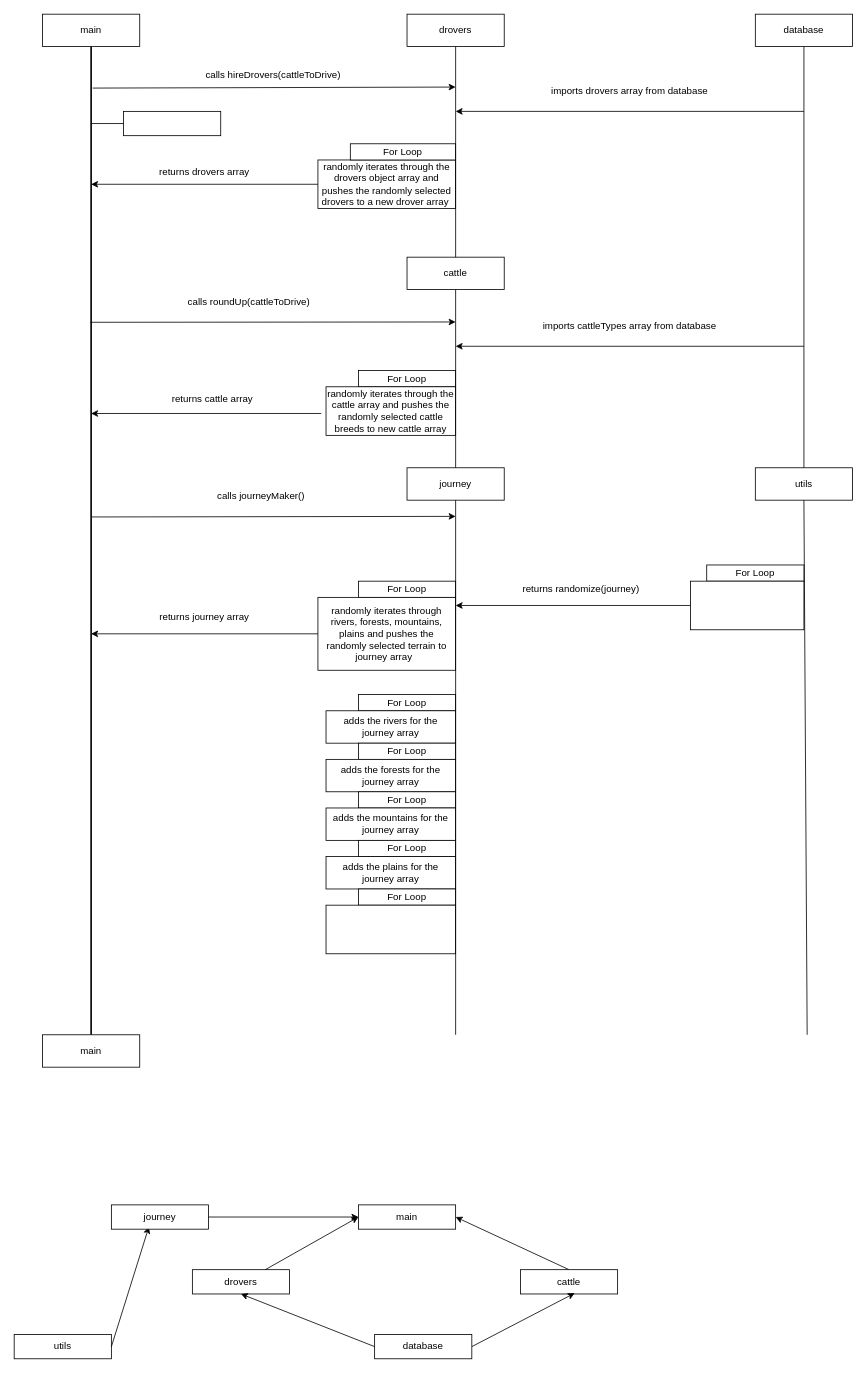
Some shapes in this 867 by 1373 pixel diagram are drawn without their labels. The centre of each missing label's shape, as x and y in pixels:
"defines cattleToDrive and sets to 50" belongs at [172,123].
"randomizes the different terrain created and pushes it to the journey array" belongs at [390,929].
"takes objects from the journey array and randomly assorts them" belongs at [747,605].
